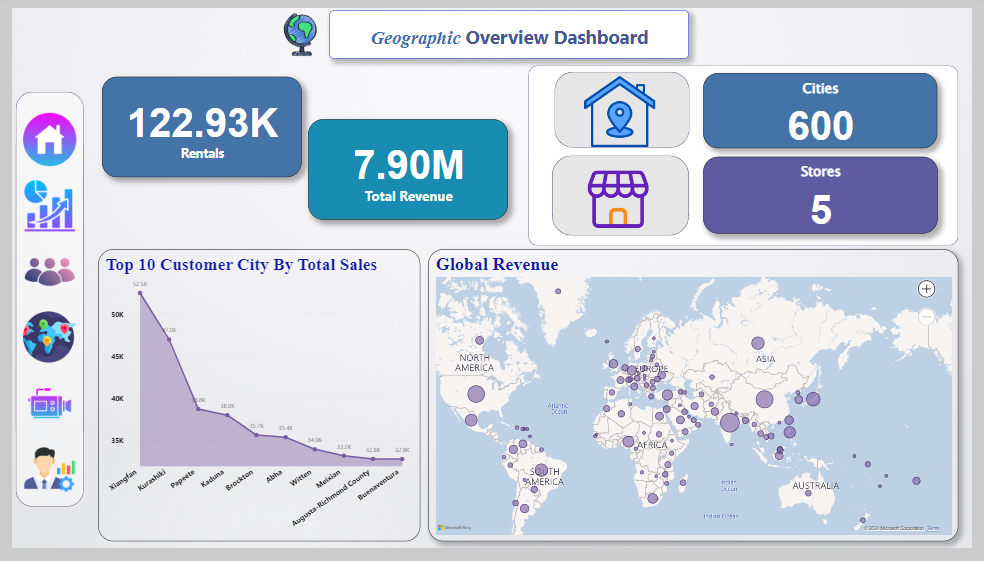

The dashboard page shown, as its layout file describes it:
{"tool":"tableau","page":{"name":"Geography","canvas":[1920,1080],"ordinal":3},"visuals":[{"type":"image","param":"D:/ITI intensive code camp/Graduation Project/Sakila/Tableau/navigation bar 6 sh","box":[8,8,1904,1064]},{"type":"worksheet","title":"Renatals","mark":"Automatic","box":[53,45,222,131]},{"type":"worksheet","title":"Film Category","mark":"Automatic","box":[386,45,718,320]},{"type":"worksheet","title":"Top Countries Revenue","mark":"Automatic","rows":["customerCity"],"cols":["paymentAmount"],"box":[1136,45,711,736]},{"type":"worksheet","title":"Revenue","mark":"Automatic","box":[45,186,247,147]},{"type":"worksheet","title":"Global map","mark":"Automatic","box":[49,350,1056,429]},{"type":"legend","title":"Global map","param":"[federated.0l1fx9e0quqb8p1d9259202rjaje (copy 2)].[sum:paymentAmount:qk]","box":[54,406,140,179]},{"type":"dashboard-object","box":[734,823,185,123]},{"type":"dashboard-object","box":[1017,828,180,123]},{"type":"dashboard-object","box":[1298,828,180,123]},{"type":"dashboard-object","box":[1579,828,180,123]},{"type":"dashboard-object","box":[455,830,180,123]},{"type":"dashboard-object","box":[178,834,175,122]}]}

Visuals, with their boxes in screenshot pixels (x1, y1, x2, y2), scaled from the page's 1920x1080 canvas onto the 984x561 screenshot:
image: box=[4, 4, 980, 557]
"Renatals" worksheet: box=[27, 23, 141, 91]
"Film Category" worksheet: box=[198, 23, 566, 190]
"Top Countries Revenue" worksheet: box=[582, 23, 947, 406]
"Revenue" worksheet: box=[23, 97, 150, 173]
"Global map" worksheet: box=[25, 182, 566, 405]
"Global map" legend: box=[28, 211, 99, 304]
dashboard-object: box=[376, 428, 471, 491]
dashboard-object: box=[521, 430, 613, 494]
dashboard-object: box=[665, 430, 757, 494]
dashboard-object: box=[809, 430, 901, 494]
dashboard-object: box=[233, 431, 325, 495]
dashboard-object: box=[91, 433, 181, 497]
